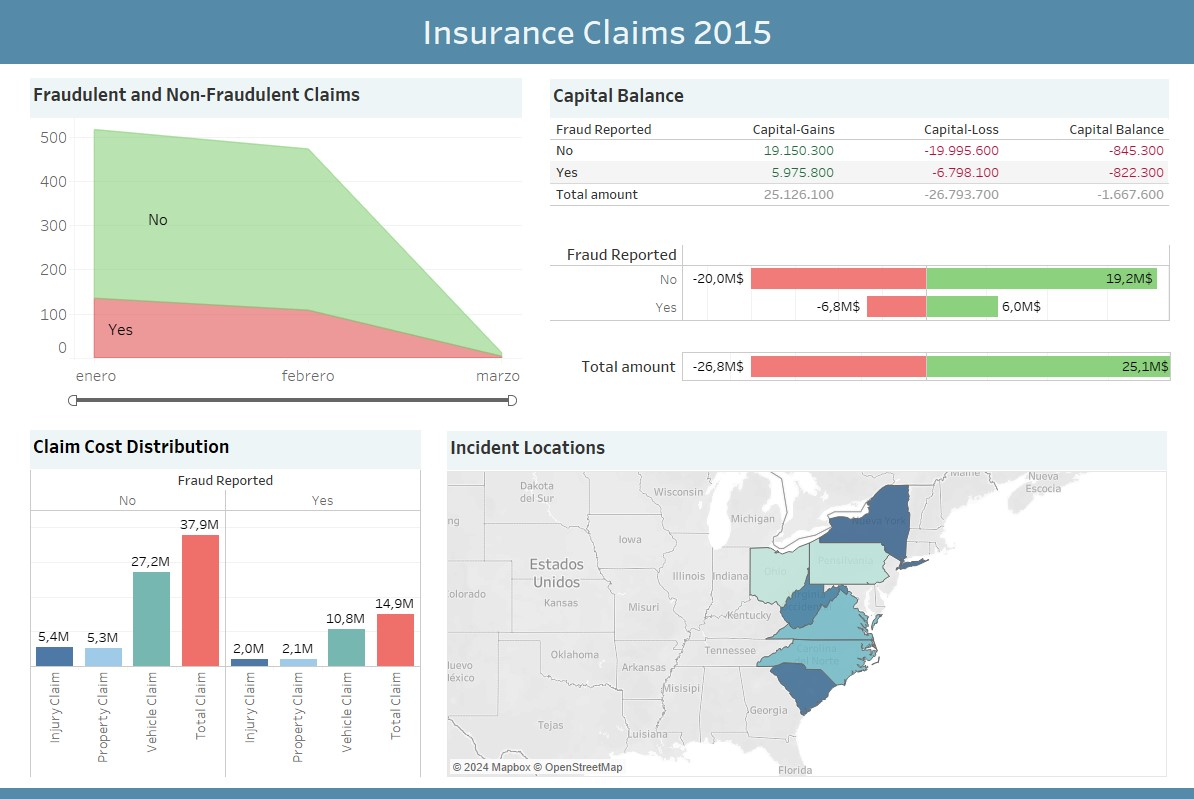

The dashboard page shown, as its layout file describes it:
{"tool":"tableau","page":{"name":"Dashboard 1","canvas":[1200,800],"ordinal":0},"visuals":[{"type":"worksheet","title":"Hoja 1","mark":"Area","rows":["policy_number"],"cols":["incident_date"],"box":[32,79,492,308]},{"type":"worksheet","title":"Hoja 5","mark":"Automatic","rows":["fraud_reported"],"box":[552,80,619,127]},{"type":"worksheet","title":"Hoja 4","mark":"Automatic","rows":["fraud_reported"],"cols":["capital-loss","capital-gains"],"box":[552,246,620,76]},{"type":"text","box":[580,348,120,39]},{"type":"worksheet","title":"Hoja 3","mark":"Automatic","cols":["capital-loss","capital-gains"],"box":[684,353,489,29]},{"type":"filter","title":"Hoja 1","param":"[federated.0k3pay80giqacf1h4ifwq0xuh9sp].[tmn:incident_date:qk]","box":[67,389,455,25]},{"type":"worksheet","title":"Hoja 6","mark":"Automatic","cols":["fraud_reported"],"box":[32,431,391,348]},{"type":"worksheet","title":"Hoja 2","mark":"Automatic","box":[449,432,720,346]}]}

Visuals, with their boxes in screenshot pixels (x1, y1, x2, y2), scaled from the page's 1200x800 canvas onto the 1194x799 screenshot:
"Hoja 1" worksheet (Area marks): bbox=[32, 79, 521, 387]
"Hoja 5" worksheet: bbox=[549, 80, 1165, 207]
"Hoja 4" worksheet: bbox=[549, 246, 1166, 322]
text: bbox=[577, 348, 696, 387]
"Hoja 3" worksheet: bbox=[681, 353, 1167, 382]
"Hoja 1" filter: bbox=[67, 389, 519, 413]
"Hoja 6" worksheet: bbox=[32, 430, 421, 778]
"Hoja 2" worksheet: bbox=[447, 431, 1163, 777]
